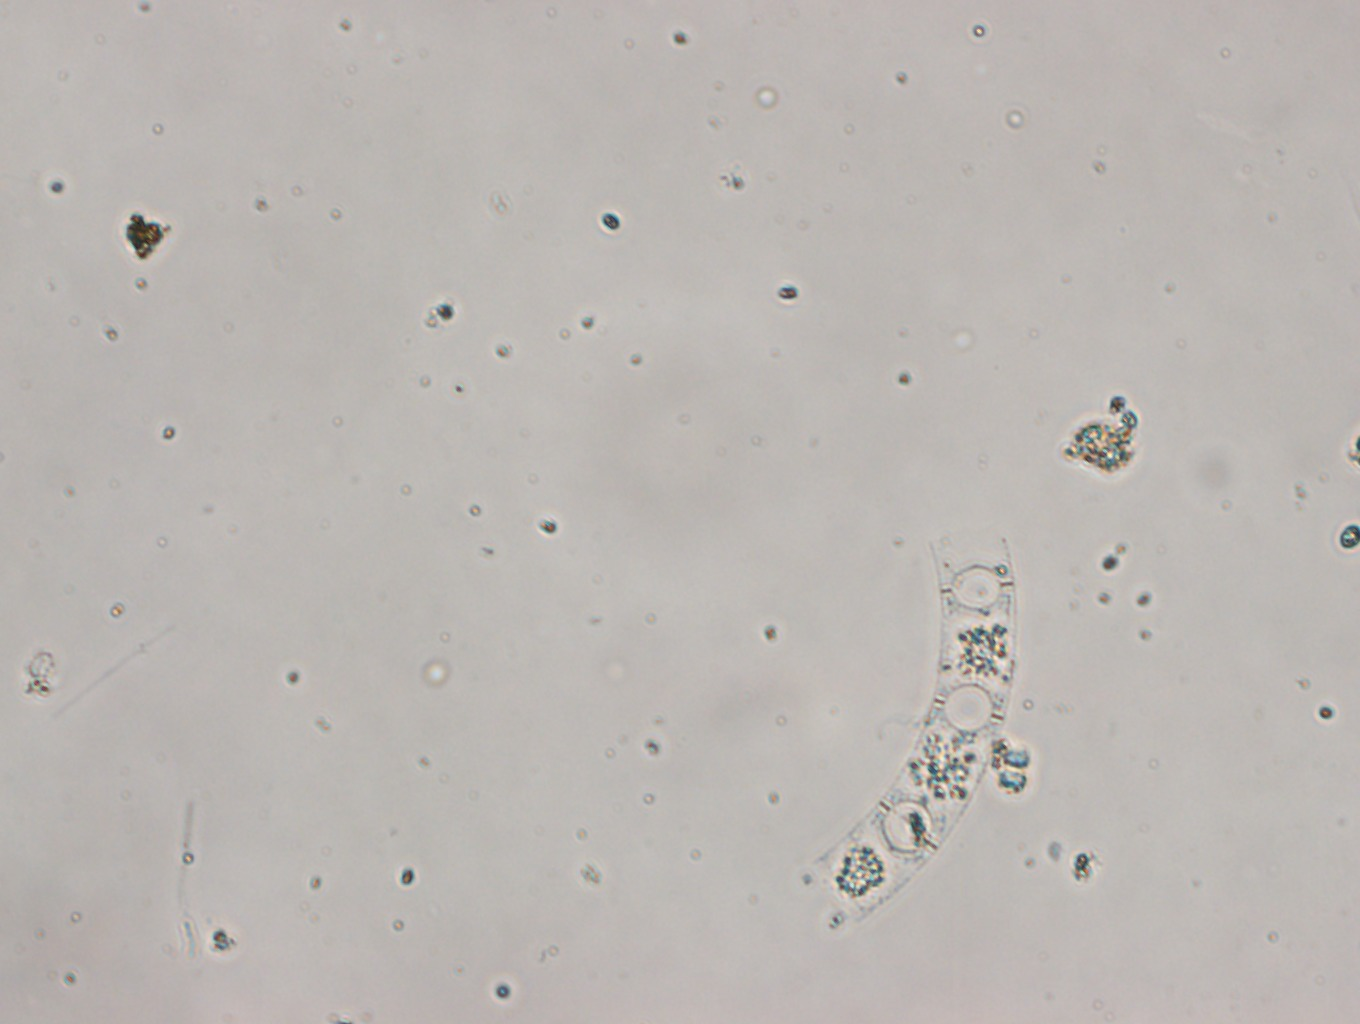eucampia: (810, 540, 1017, 924)
